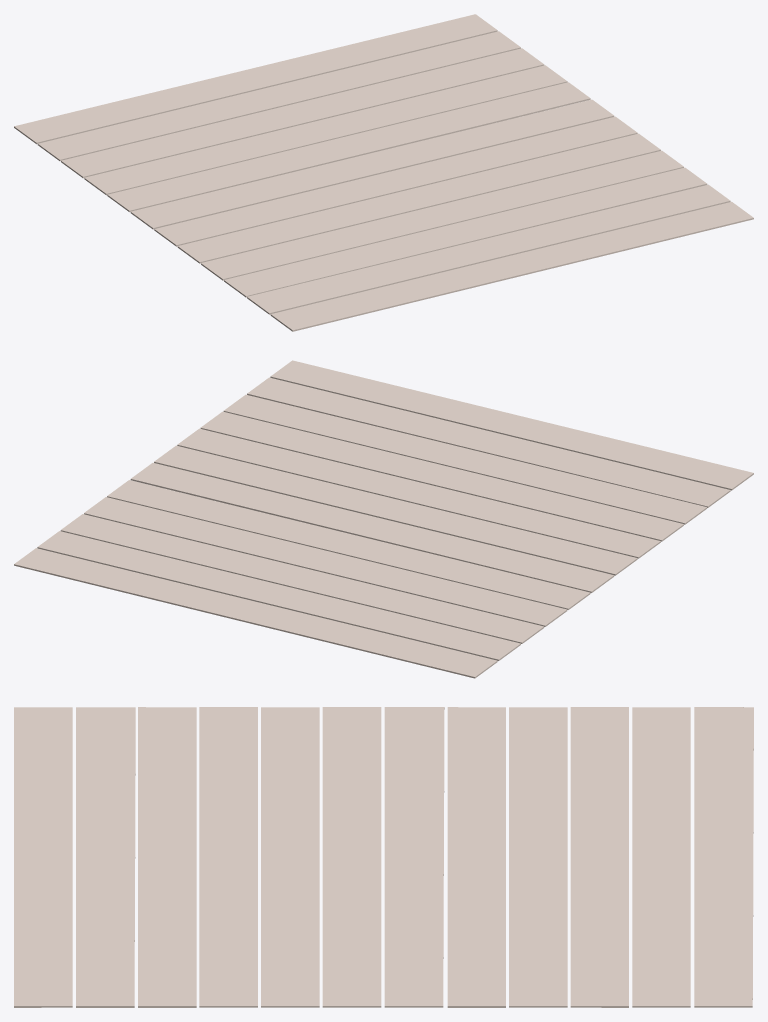
Rendered from Floor_3.fbx.
3 renders of one model, top to bottom at view 1: azimuth 30°, elevation 25°; view 2: azimuth 150°, elevation 25°; view 3: azimuth 270°, elevation 25°, orthographic. The views are drawn at different scales.
Visible parts, largest first — view 1: Floor_3; view 2: Floor_3; view 3: Floor_3.
Boxes of the visible parts, <box> form: Floor_3: <box>14,14,753,331</box>; Floor_3: <box>14,360,753,678</box>; Floor_3: <box>14,707,753,1007</box>.
Bounding box in the file's own units: 466 × 488 × 1.41.
